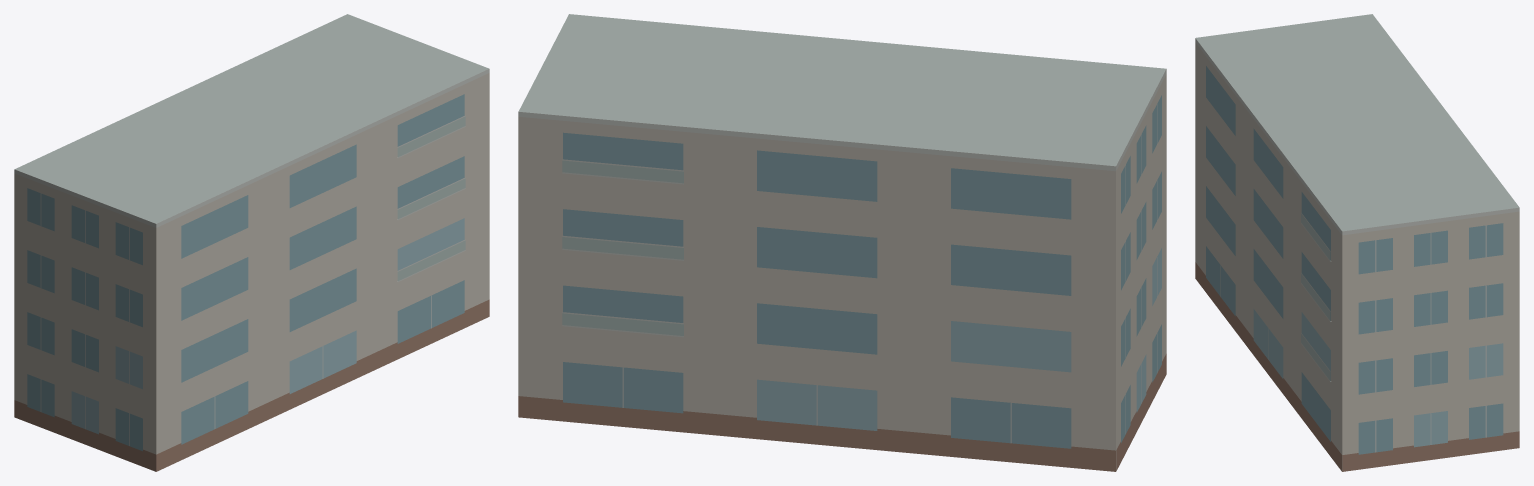
File: survey-upis-32771209.glb
3 views of the same model, side by side, from view 1: azimuth 30°, elevation 25°; view 2: azimuth 150°, elevation 25°; view 3: azimuth 270°, elevation 25° (orthographic). The views are drawn at different scales.
Visible parts, largest first — view 1: survey-upis-32771209.tmp; view 2: survey-upis-32771209.tmp; view 3: survey-upis-32771209.tmp.
Boxes of the visible parts, x1,y1,x2,y2 form: survey-upis-32771209.tmp: (14, 14, 489, 471); survey-upis-32771209.tmp: (518, 14, 1166, 471); survey-upis-32771209.tmp: (1195, 14, 1519, 471).
Bounding box in the file's own units: 28.91 × 14.9 × 18.23.
